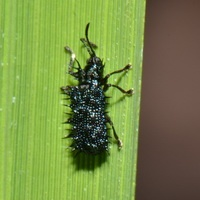insect: (61, 23, 132, 154)
